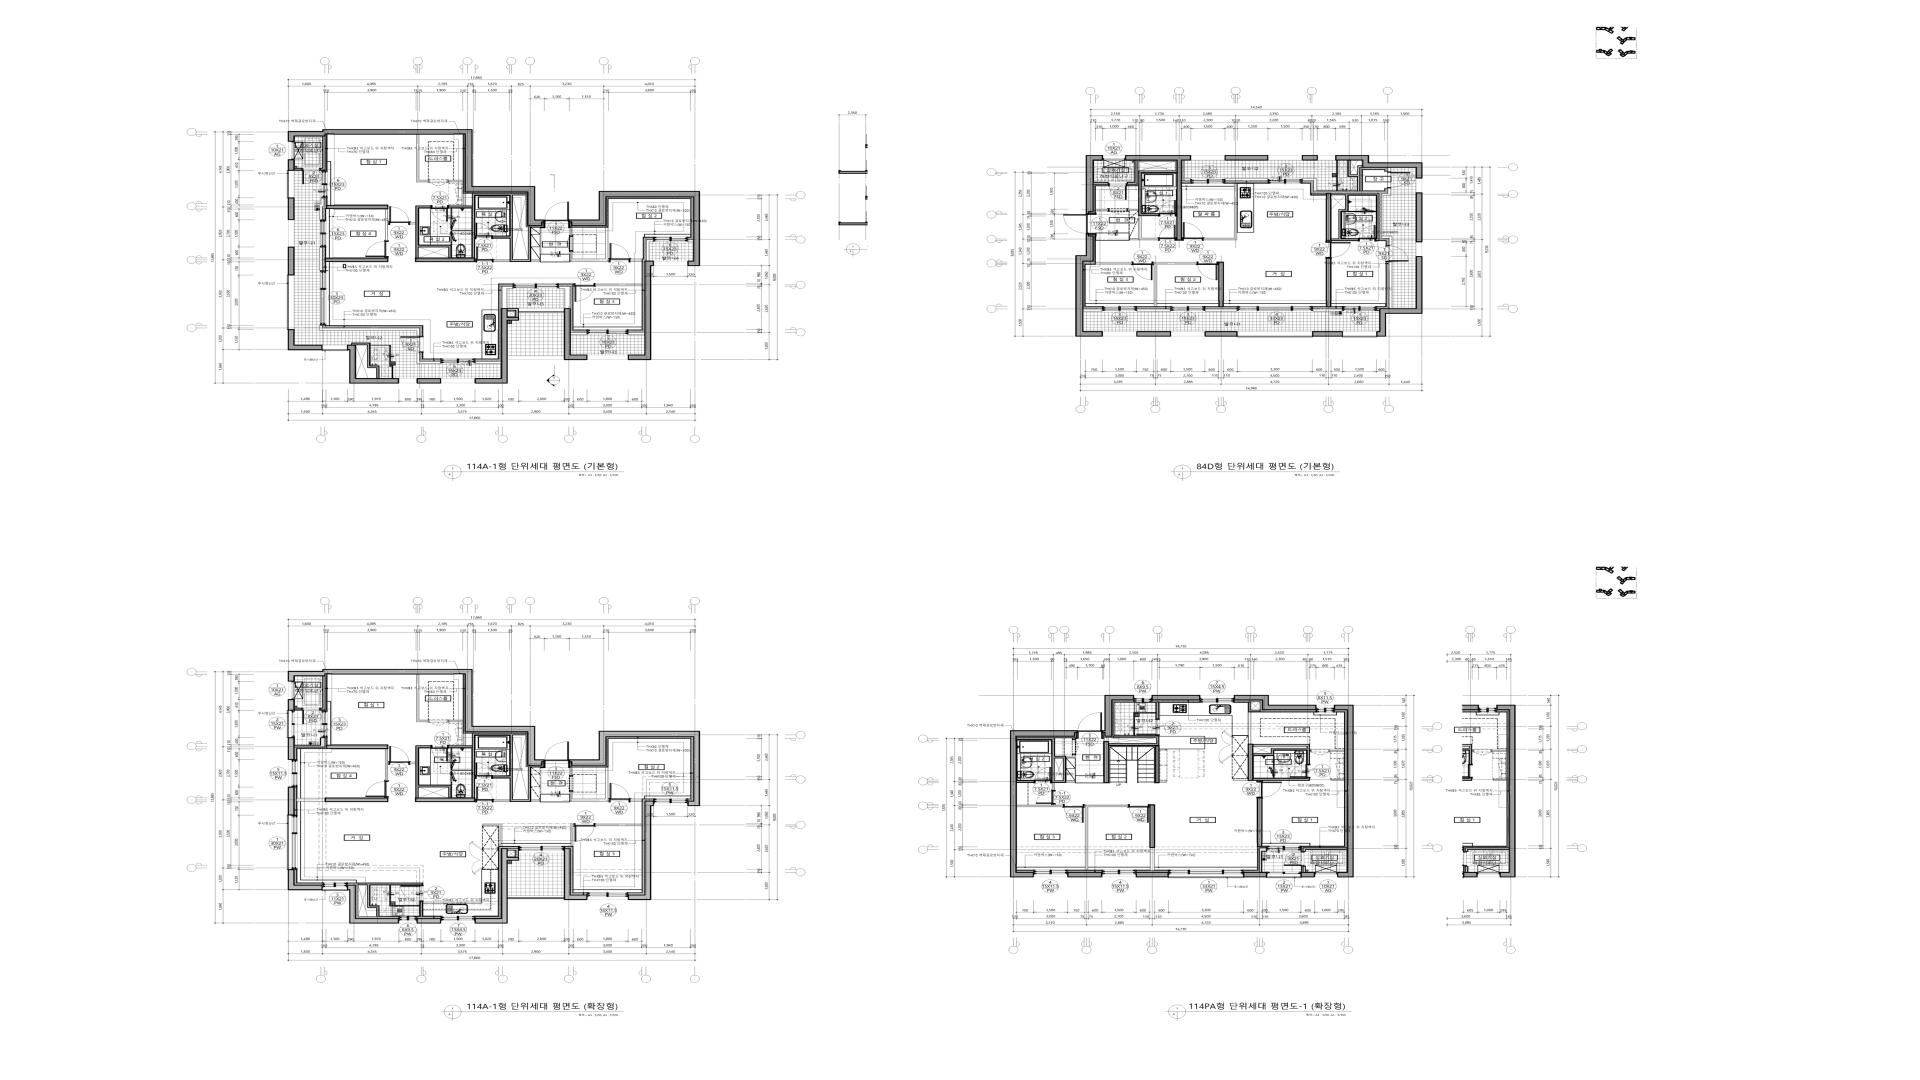door: (1063, 214, 1097, 234), (1077, 712, 1102, 739), (544, 742, 569, 768), (544, 203, 569, 228), (1325, 241, 1351, 259), (1256, 781, 1282, 798), (608, 783, 630, 803), (608, 243, 630, 263), (1063, 804, 1085, 823), (573, 823, 595, 842), (573, 283, 595, 302), (1385, 245, 1409, 262), (365, 781, 389, 798), (365, 241, 389, 258), (400, 336, 424, 353), (1182, 222, 1203, 241), (1128, 804, 1149, 823), (388, 746, 409, 765), (388, 206, 409, 225), (1132, 262, 1154, 280), (1136, 719, 1160, 735), (1197, 262, 1218, 280), (1387, 172, 1410, 188), (400, 886, 423, 902), (1158, 200, 1177, 217), (1284, 852, 1306, 866), (1358, 225, 1376, 242), (1109, 183, 1127, 200), (431, 205, 449, 222), (1036, 790, 1056, 805), (1290, 764, 1311, 778), (1034, 767, 1051, 784), (431, 745, 448, 762), (475, 763, 493, 779), (302, 708, 320, 724), (475, 787, 493, 803), (475, 247, 493, 263), (475, 223, 493, 239), (302, 168, 320, 184), (1159, 225, 1176, 241), (428, 719, 448, 726), (428, 180, 449, 186), (1108, 208, 1128, 214), (1310, 750, 1329, 756)
wall: (288, 669, 544, 766), (288, 129, 544, 226), (1010, 730, 1077, 878), (569, 731, 700, 806), (569, 191, 700, 266), (448, 733, 540, 802), (449, 193, 540, 262), (1125, 155, 1191, 241), (1376, 256, 1423, 337), (1334, 705, 1354, 878), (1128, 171, 1177, 240), (475, 848, 519, 924), (475, 308, 519, 384), (1017, 737, 1075, 790), (1075, 234, 1103, 337), (1085, 805, 1128, 870), (628, 801, 654, 900), (628, 261, 654, 360), (1331, 193, 1379, 241), (409, 745, 452, 798), (358, 883, 423, 917), (410, 206, 452, 257), (1335, 155, 1423, 179), (347, 345, 399, 384), (347, 885, 399, 924), (1154, 262, 1197, 306), (1204, 184, 1237, 240), (1102, 695, 1134, 737), (570, 768, 608, 802), (570, 228, 608, 262), (564, 848, 588, 900), (1234, 695, 1317, 710), (564, 308, 587, 360), (1254, 744, 1310, 764), (319, 325, 420, 336), (1086, 155, 1103, 214), (351, 343, 379, 378), (287, 329, 322, 351), (288, 869, 322, 891), (1381, 188, 1392, 245), (416, 675, 428, 722), (416, 135, 428, 182), (1109, 735, 1159, 746), (1248, 702, 1261, 744), (1347, 161, 1362, 191), (482, 824, 501, 846), (1416, 192, 1423, 243), (326, 744, 388, 749), (327, 205, 388, 210), (1257, 798, 1263, 847), (1326, 193, 1332, 241), (1326, 259, 1332, 306), (416, 353, 441, 364), (1218, 262, 1224, 307), (295, 738, 325, 747), (1149, 804, 1155, 848), (501, 286, 513, 308), (1225, 155, 1268, 161), (324, 798, 388, 802), (1103, 741, 1109, 783), (326, 258, 388, 262), (559, 286, 570, 308), (415, 798, 475, 802), (1152, 695, 1200, 700), (1127, 161, 1137, 185), (415, 258, 475, 262), (508, 896, 564, 900), (1248, 744, 1254, 781), (1303, 847, 1347, 852), (1136, 331, 1171, 337), (1067, 872, 1102, 878), (288, 247, 295, 276), (287, 787, 294, 816), (1205, 331, 1238, 337), (1136, 872, 1169, 878), (1302, 178, 1317, 191), (1259, 848, 1267, 872), (1312, 331, 1343, 337), (1155, 746, 1160, 783), (320, 676, 325, 711), (1253, 778, 1310, 781), (320, 137, 325, 171), (288, 198, 295, 220), (288, 738, 295, 760), (416, 918, 441, 924), (646, 240, 653, 261), (1243, 872, 1267, 878), (417, 378, 441, 384), (1184, 161, 1191, 181), (1389, 262, 1392, 308), (1225, 178, 1268, 181), (1150, 848, 1155, 870), (319, 198, 324, 220), (1096, 262, 1132, 265), (297, 798, 324, 802), (1137, 309, 1171, 312), (508, 848, 519, 857), (508, 308, 519, 317), (1205, 309, 1237, 312), (385, 749, 388, 781), (1302, 155, 1318, 161), (319, 247, 323, 271), (595, 824, 642, 826), (595, 284, 642, 286), (385, 210, 388, 241), (1017, 805, 1063, 807), (1313, 309, 1342, 312), (288, 159, 295, 171), (288, 699, 295, 711), (1301, 872, 1315, 878), (475, 361, 501, 364), (570, 824, 573, 846), (419, 902, 423, 917), (1083, 309, 1102, 312), (1156, 702, 1159, 719), (1017, 780, 1034, 783), (571, 332, 587, 335), (1310, 193, 1326, 196), (1094, 182, 1109, 185), (630, 259, 642, 262), (630, 799, 642, 802), (1329, 750, 1344, 752), (1233, 779, 1248, 781), (449, 180, 463, 182), (449, 720, 463, 722), (1331, 779, 1344, 781), (1096, 209, 1108, 211), (295, 708, 302, 711), (295, 168, 302, 171), (570, 767, 572, 776), (1303, 866, 1306, 872), (570, 228, 572, 236), (1104, 738, 1109, 741), (1160, 781, 1167, 783), (1388, 168, 1391, 172), (688, 240, 693, 242), (1377, 309, 1379, 311)
window: (1169, 870, 1243, 878), (287, 816, 297, 869), (1237, 306, 1313, 311), (287, 276, 294, 329), (1238, 332, 1312, 337), (587, 892, 628, 900), (320, 271, 326, 325), (519, 846, 564, 853), (513, 283, 559, 289), (654, 798, 687, 806), (587, 329, 628, 335), (288, 760, 297, 787), (1102, 870, 1136, 877), (441, 916, 475, 923), (1201, 696, 1234, 703), (1034, 870, 1067, 877), (508, 356, 564, 360), (286, 171, 294, 198), (287, 711, 295, 737), (1267, 846, 1301, 852), (1267, 872, 1301, 878), (441, 358, 475, 364), (587, 355, 627, 360), (1343, 332, 1376, 338), (323, 883, 347, 891), (320, 711, 327, 738), (519, 309, 564, 313), (1102, 306, 1137, 311), (1342, 306, 1377, 311), (653, 237, 688, 242), (1268, 179, 1302, 184), (1191, 179, 1225, 184), (1171, 306, 1205, 311), (654, 261, 687, 266), (288, 220, 294, 247), (321, 171, 327, 198), (320, 220, 326, 247), (322, 345, 347, 351), (1268, 156, 1302, 160), (1191, 156, 1225, 160), (1317, 705, 1334, 713), (1171, 332, 1205, 336), (441, 379, 474, 383), (1103, 332, 1136, 336), (1134, 696, 1152, 703), (399, 916, 416, 923), (1315, 872, 1337, 877), (288, 682, 294, 699), (288, 142, 294, 159), (1103, 156, 1125, 160), (1416, 243, 1422, 256), (1416, 179, 1422, 192), (399, 379, 416, 383), (1318, 156, 1335, 160)
